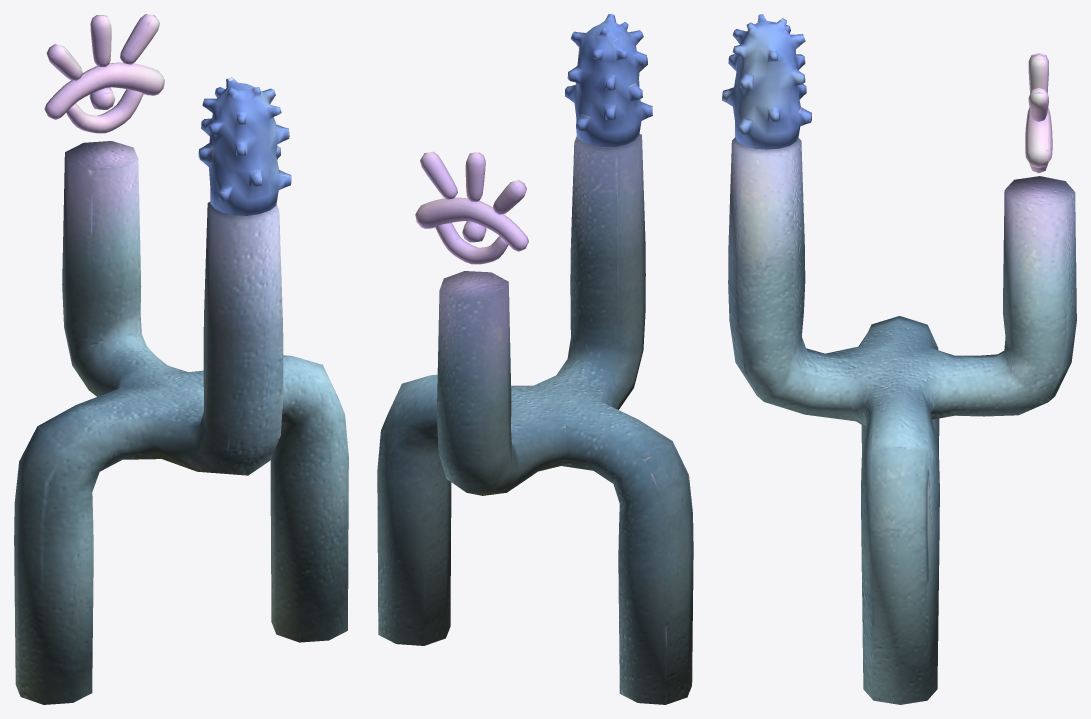
The model's file is LamiaChair.glb.
3 views of the same model, side by side, from view 1: azimuth 30°, elevation 25°; view 2: azimuth 150°, elevation 25°; view 3: azimuth 270°, elevation 25° (orthographic). The views are drawn at different scales.
Visible parts, largest first — view 1: Cube.003; view 2: Cube.003; view 3: Cube.003.
Part boxes in pixels (box(x1,y1,x2,y2)): Cube.003: box(14, 14, 348, 704); Cube.003: box(377, 14, 693, 704); Cube.003: box(722, 14, 1076, 704).
Size of what is drawn, in the model's own units: 0.8324 by 1.54 by 0.82.
Materials: 1 (1 with a texture image).
